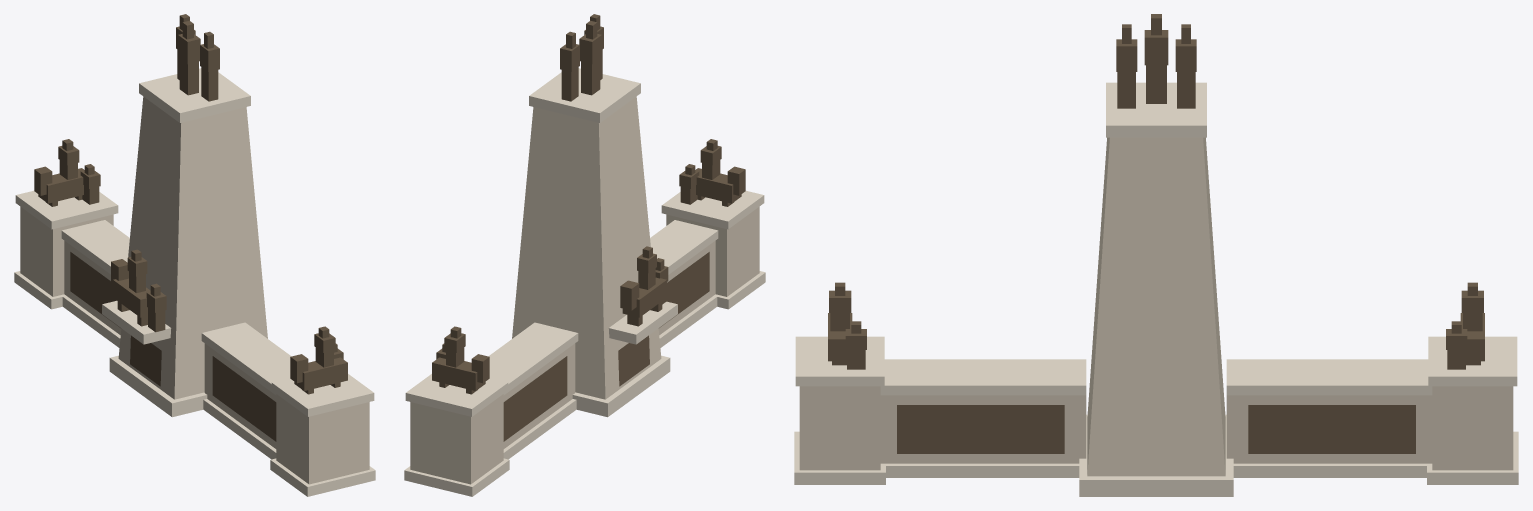
The model's file is slc-this-is-the-place-monument.glb.
3 views of the same model, side by side, from view 1: azimuth 30°, elevation 25°; view 2: azimuth 150°, elevation 25°; view 3: azimuth 270°, elevation 25° (orthographic). The views are drawn at different scales.
Parts seen in each view (by area): view 1: This Is the Place Monument; view 2: This Is the Place Monument; view 3: This Is the Place Monument.
Part boxes in pixels (box(x1,y1,x2,y2)): This Is the Place Monument: box(14, 14, 375, 496); This Is the Place Monument: box(404, 14, 765, 496); This Is the Place Monument: box(794, 14, 1518, 496).
Size of the model in its own units: 6.65 by 18.13 by 26.8.
